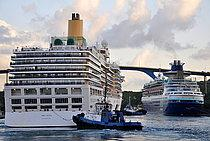Ship: (4, 10, 130, 134), (140, 62, 207, 119)
